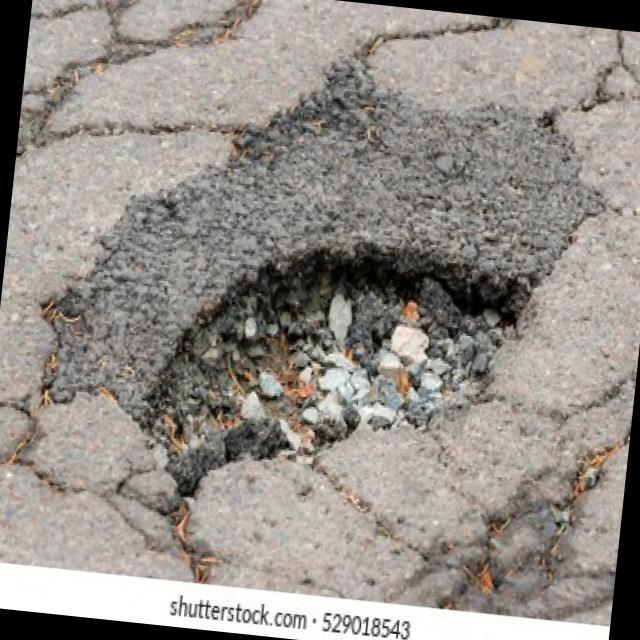Pothole: (139, 248, 535, 519)
